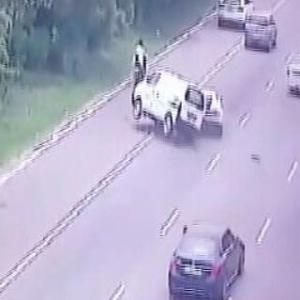serious: (129, 55, 227, 146)
